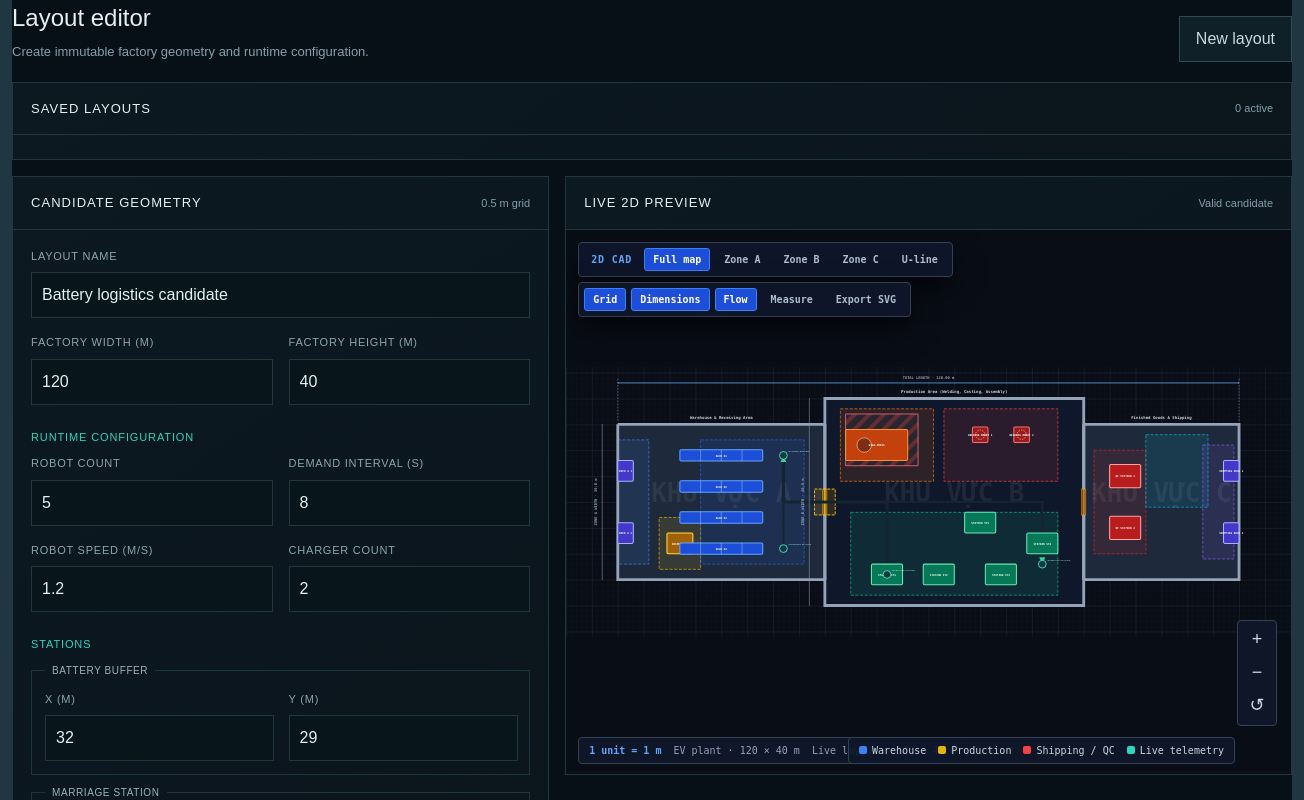
Test: LayoutsPage › updates station coordinates in the validated preview
The image size is (1304, 800).
Replace the text in the number field labelled "X (m)" with "4.2": [160, 738] box [45,715,274,761]
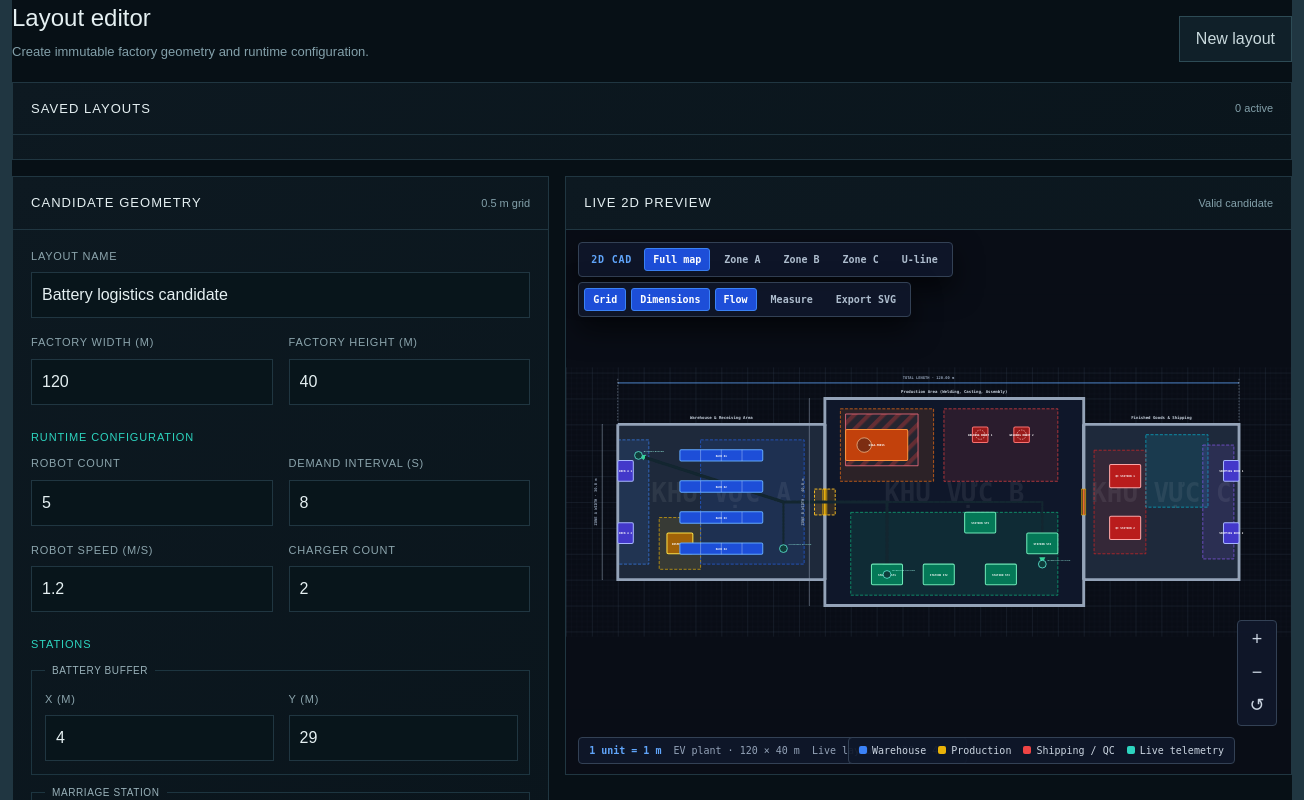
Expected: the number field labelled "X (m)" holds "4", [45,715,274,761]
